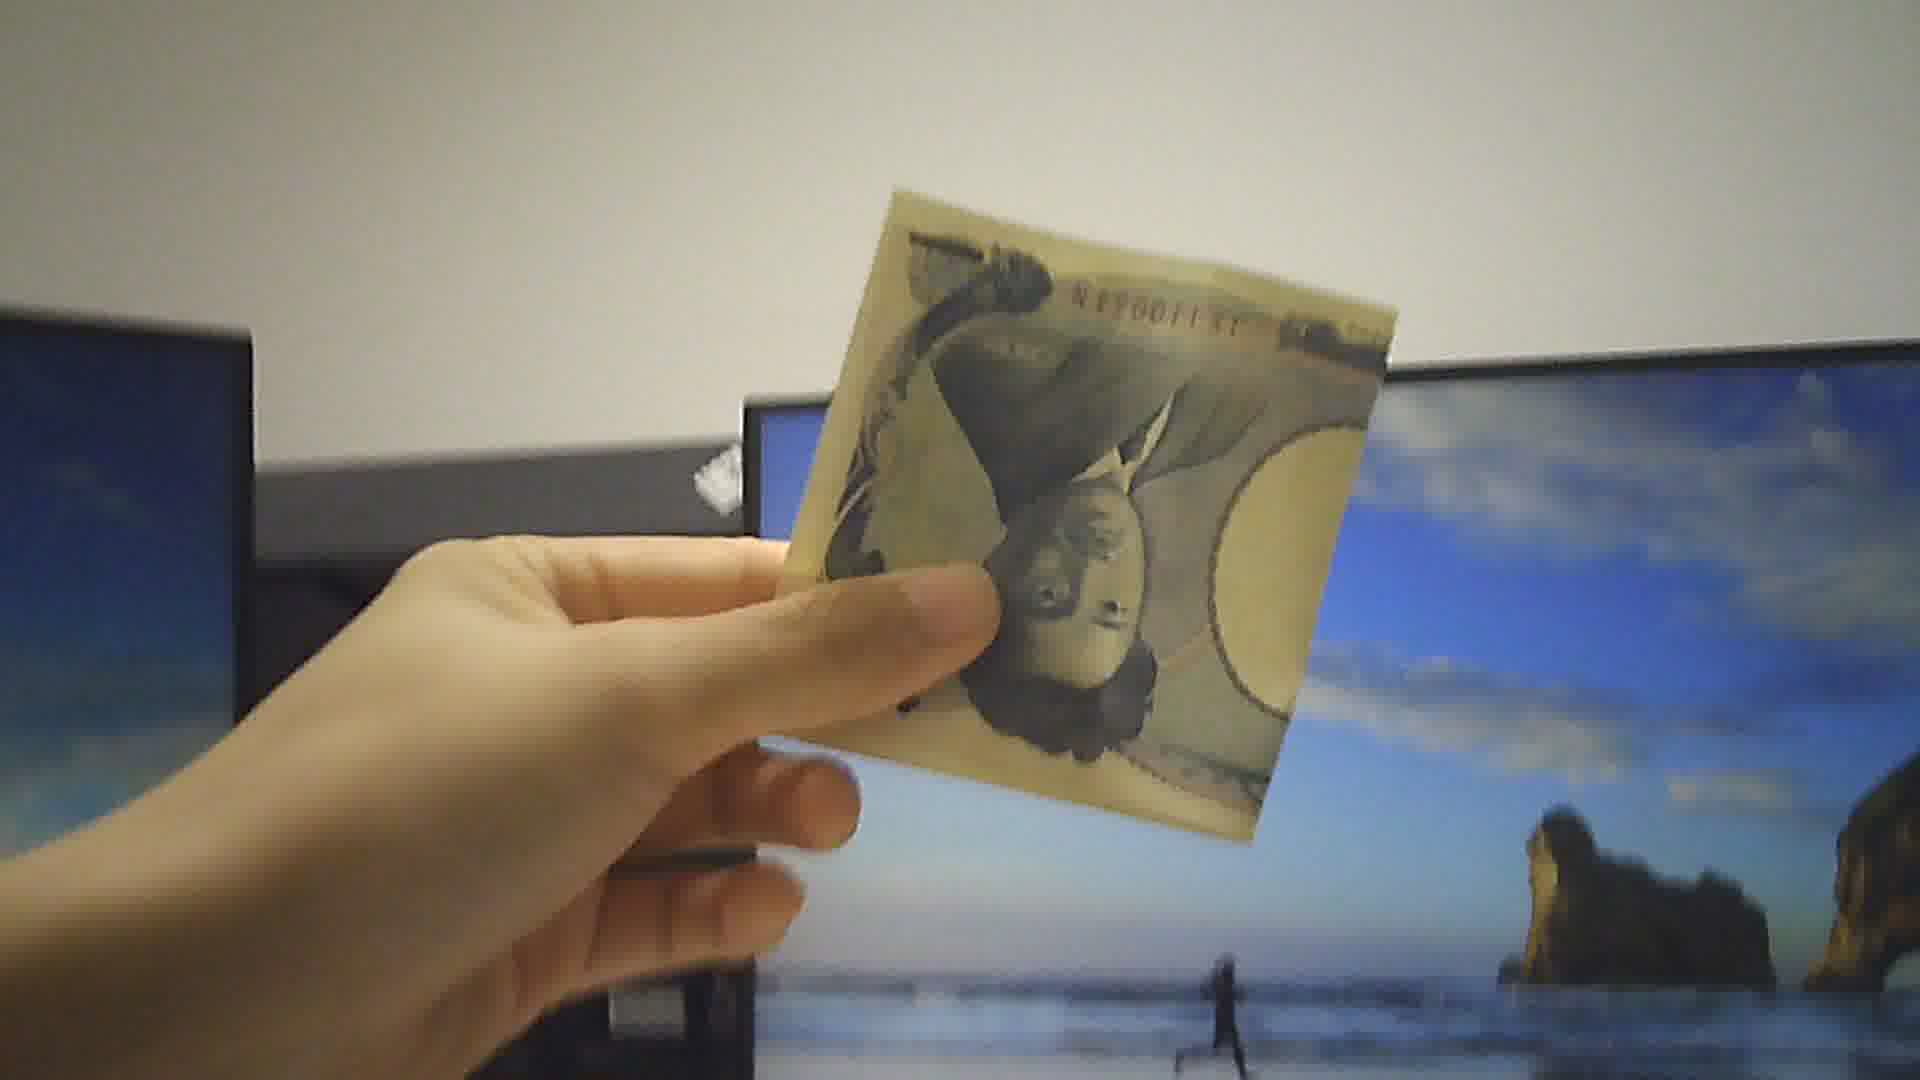1,000 Yen: (767, 177, 1408, 851)
